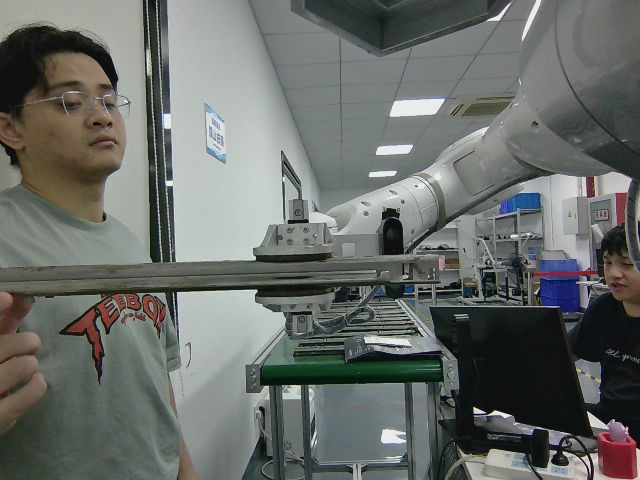down: (0, 253, 442, 298)
